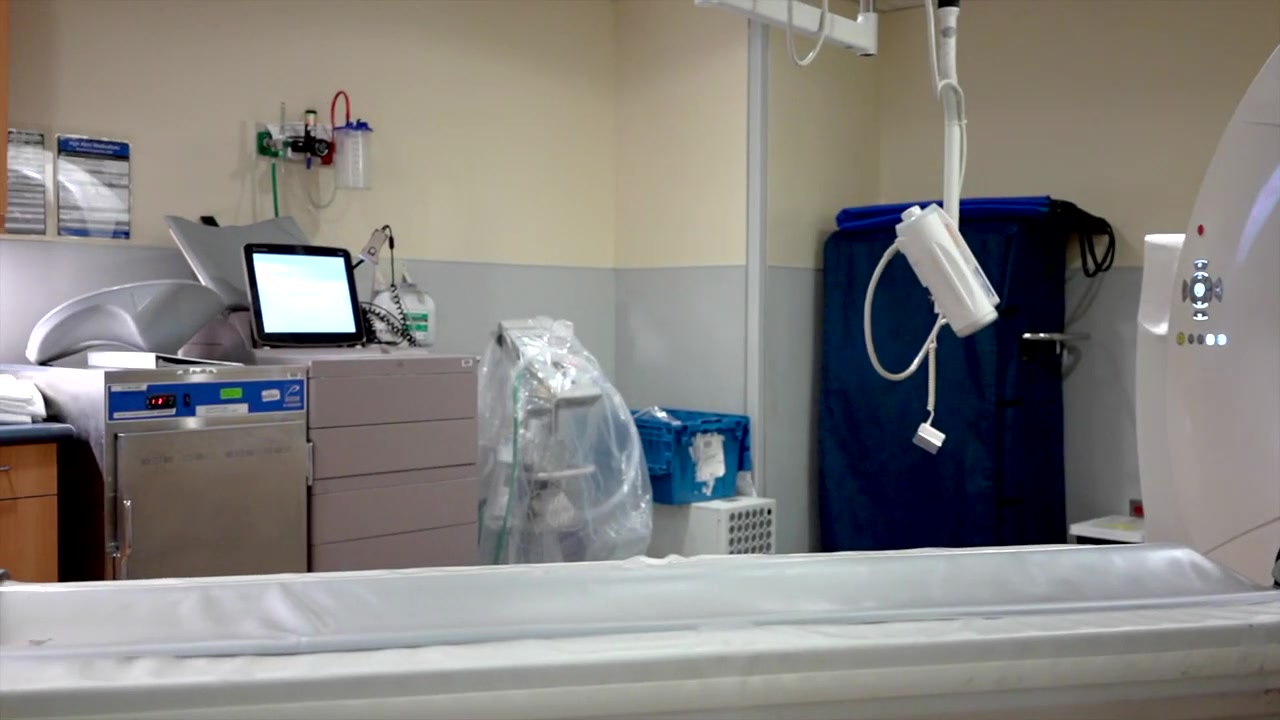bedside_monitor: (240, 243, 366, 346)
drawer: (310, 349, 482, 563)
handle: (121, 494, 135, 557)
table: (1, 424, 66, 577)
waste_bin: (626, 405, 752, 507)
xray_bed: (1, 543, 1280, 720)
xray_machine: (1135, 45, 1278, 595)
